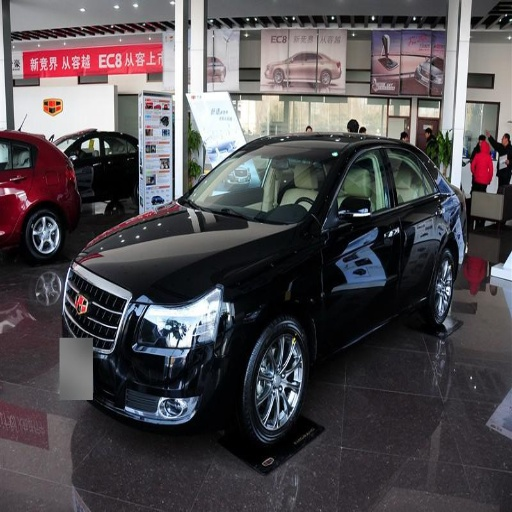front_bumper: (65, 269, 241, 429)
front_glass: (183, 144, 339, 223)
front_left_door: (326, 146, 402, 343)
